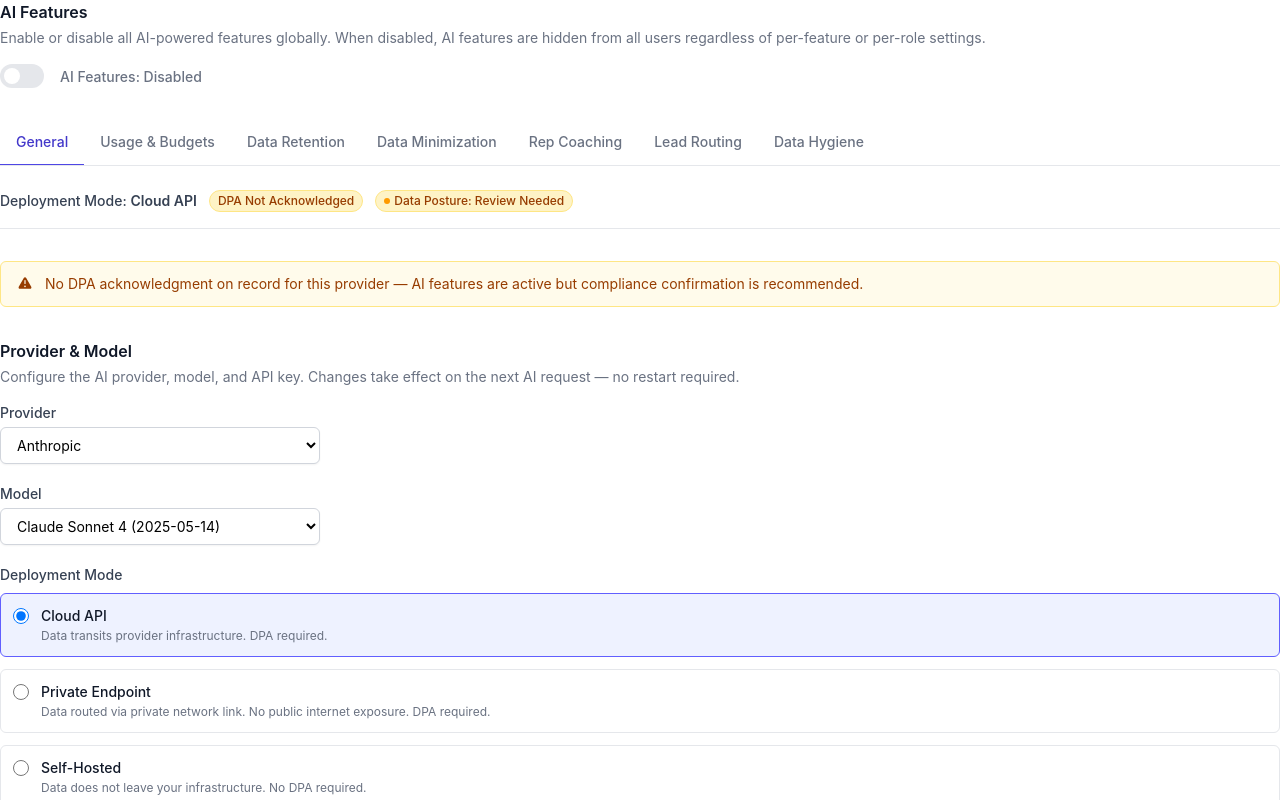
Test case: AiSettings — master toggle › dismisses the dialog when cancel is clicked
The image size is (1280, 800).
Click the switch with test id "ai-master-toggle" at coordinates (22, 76), box x1=0 y1=64 x2=44 y2=88
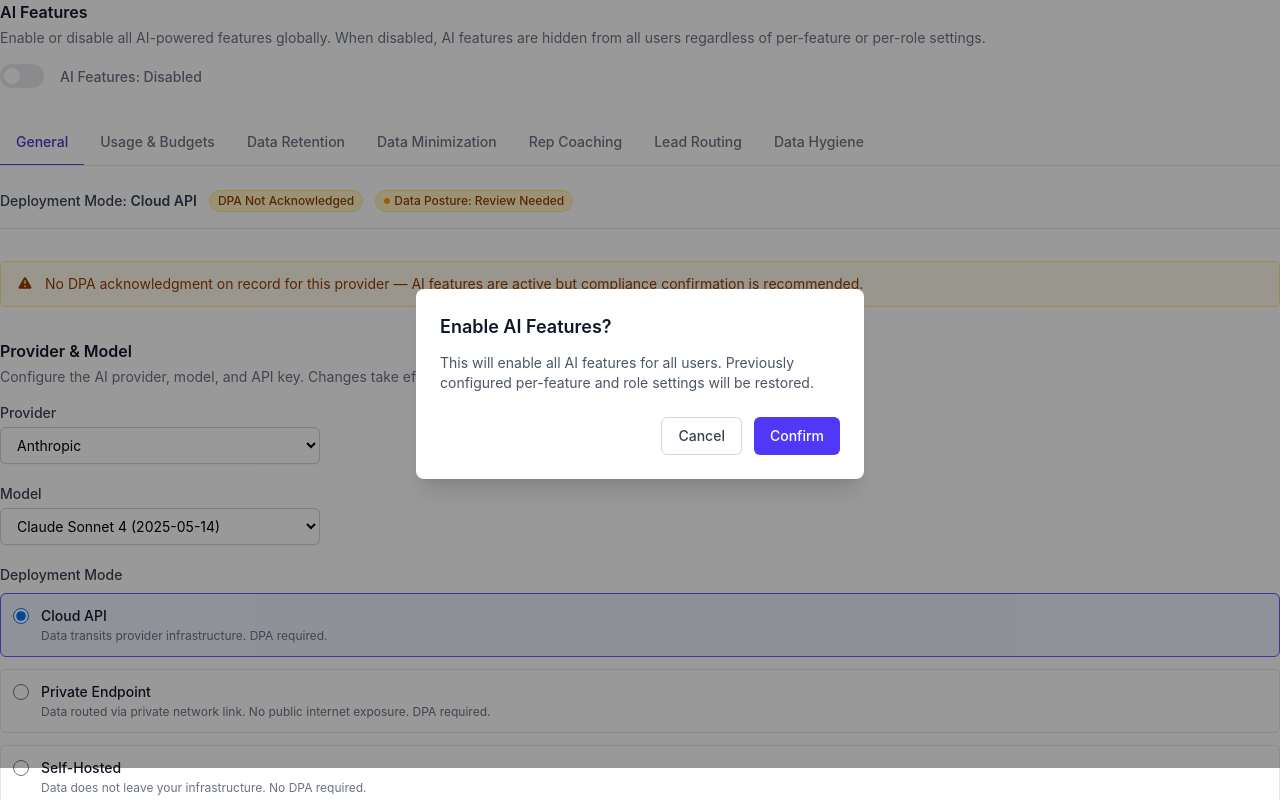
Check: the dialog with test id "ai-toggle-confirm-dialog" is shown
Click the button with test id "ai-toggle-cancel-button" at coordinates (702, 436), box x1=662 y1=417 x2=742 y2=455
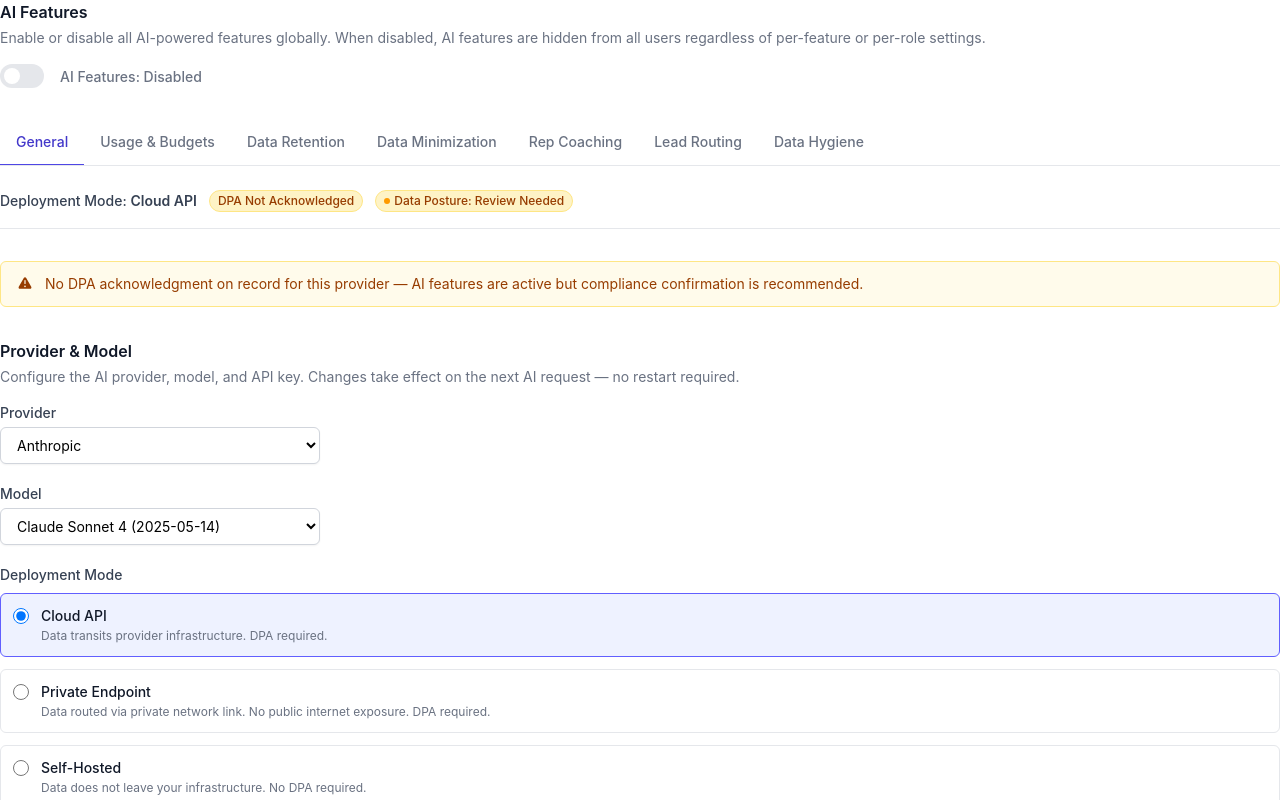
Check: the dialog with test id "ai-toggle-confirm-dialog" is gone
